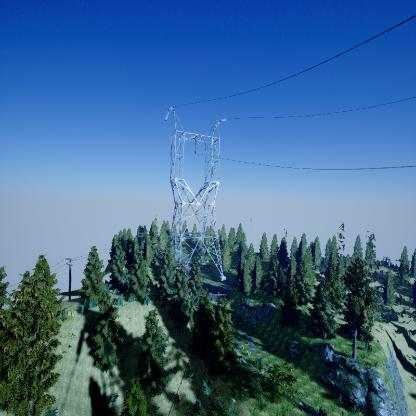tower: (162, 103, 230, 282)
